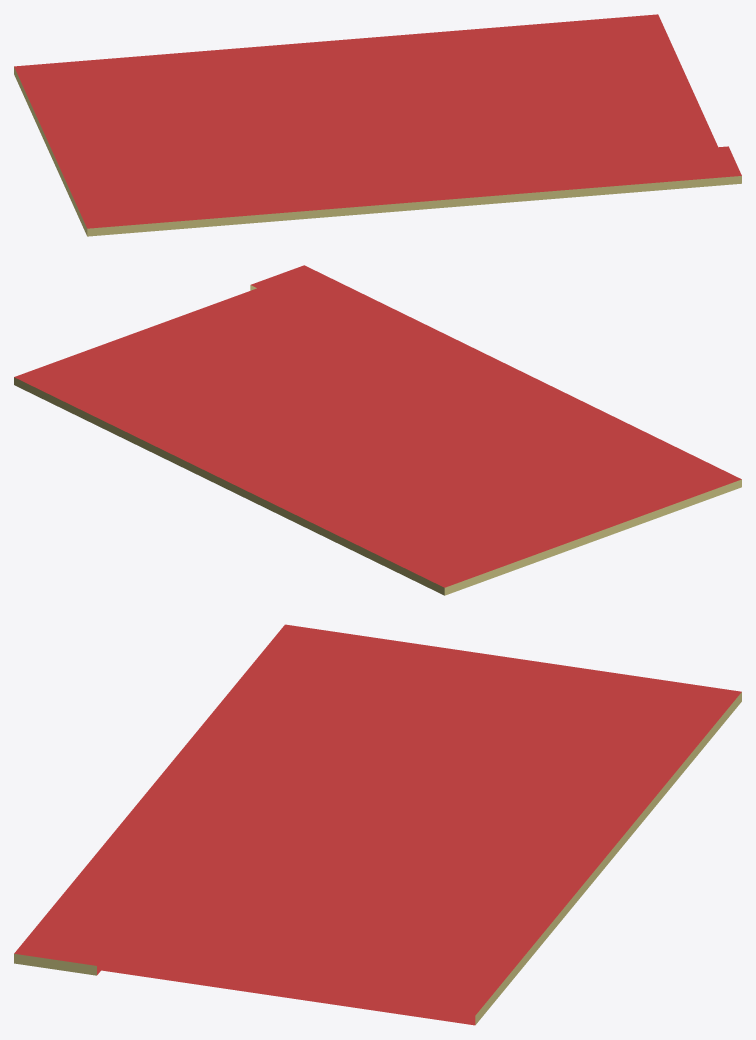
The picture shows the model from 3 angles, top to bottom: view 1: azimuth 30°, elevation 25°; view 2: azimuth 150°, elevation 25°; view 3: azimuth 270°, elevation 25°; orthographic projection. The views are drawn at different scales.
Parts seen in each view (by area): view 1: group_3, group_4; view 2: group_3, group_4; view 3: group_3, group_5, group_4.
Part boxes in pixels (left/top/right/bottom): group_3: left=14, top=14, right=741, bottom=228; group_4: left=14, top=67, right=741, bottom=236; group_3: left=14, top=265, right=741, bottom=587; group_4: left=14, top=285, right=741, bottom=595; group_3: left=14, top=624, right=741, bottom=1015; group_5: left=97, top=961, right=475, bottom=1025; group_4: left=14, top=692, right=741, bottom=1024.
Size of the model in its own units: 8.58 by 6.75 by 0.1.
